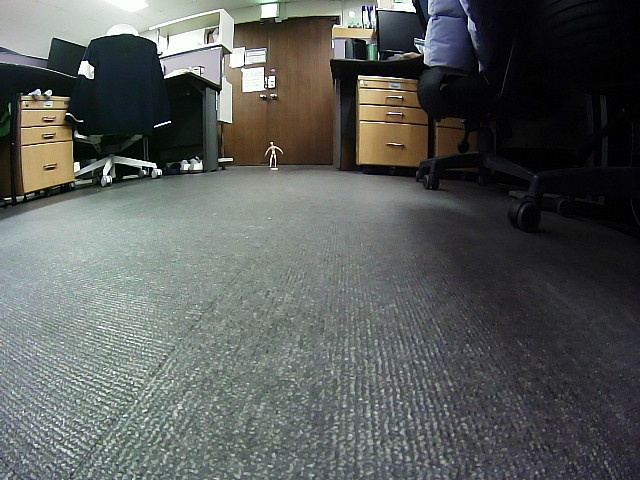person: (264, 141, 284, 167)
